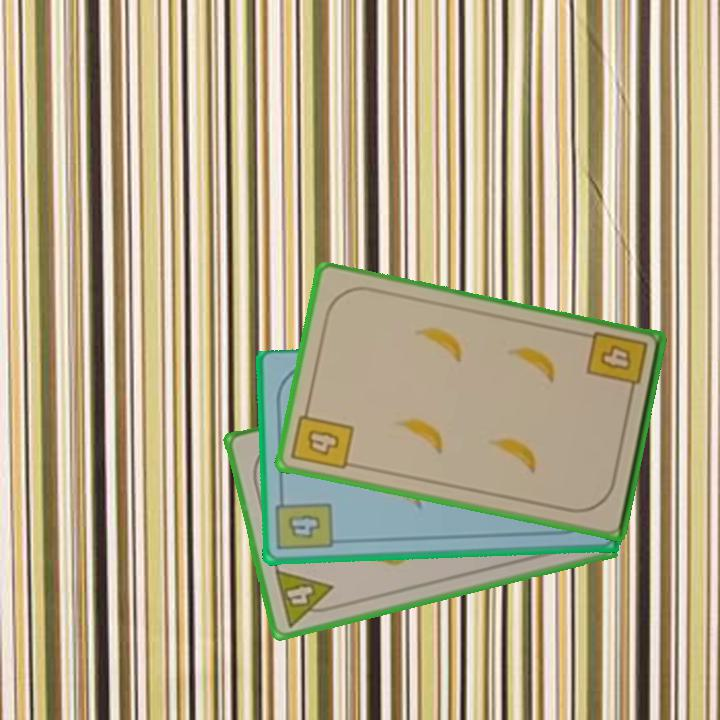4b: (583, 327, 651, 401), (288, 402, 357, 473), (273, 491, 335, 553)
4p: (271, 565, 340, 630)
